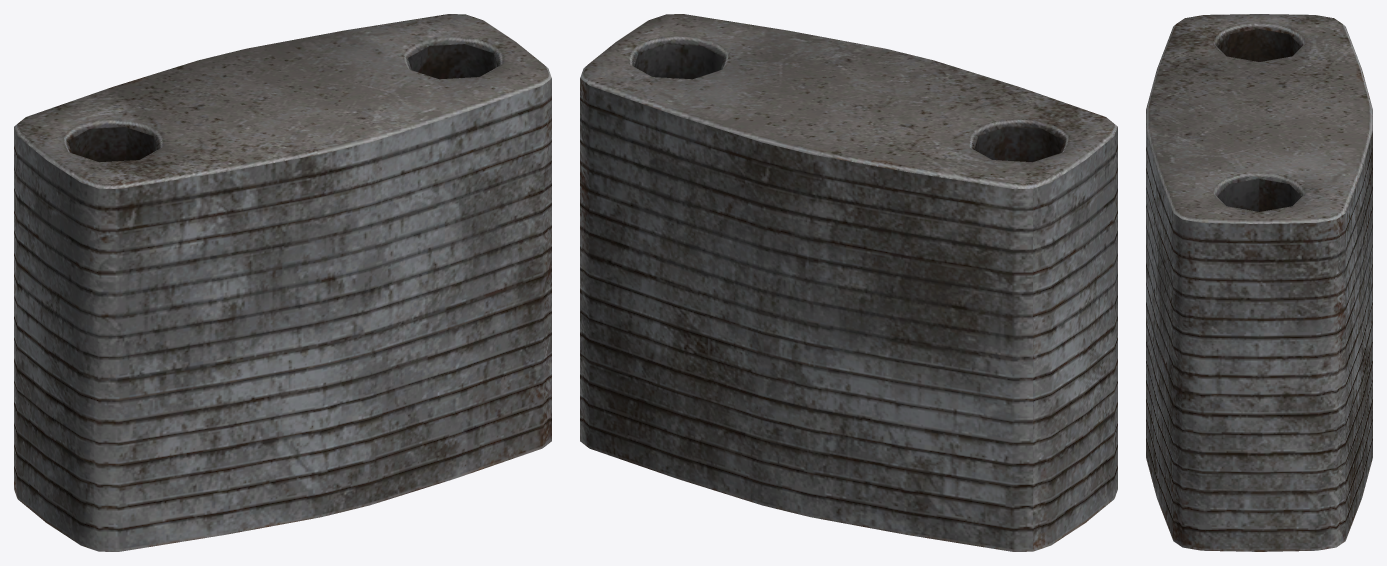
File: padLock.FBX
The picture shows the model from 3 angles, left to right: view 1: azimuth 30°, elevation 25°; view 2: azimuth 150°, elevation 25°; view 3: azimuth 270°, elevation 25°; orthographic projection. The views are drawn at different scales.
Parts seen in each view (by area): view 1: SM_Padlock; view 2: SM_Padlock; view 3: SM_Padlock.
Part boxes in pixels (<box>): SM_Padlock: <box>14,14,551,551</box>; SM_Padlock: <box>580,14,1117,551</box>; SM_Padlock: <box>1146,14,1372,551</box>.
Size of the model in its own units: 4.45 by 3.29 by 2.05.
1 material, 1 textured.
